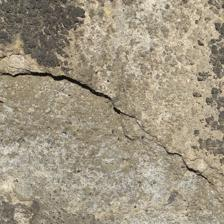Crack: (5, 70, 215, 188)
